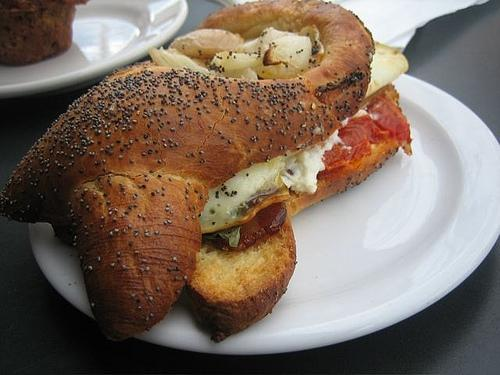onion: (256, 36, 311, 78), (149, 45, 209, 72), (208, 50, 264, 72)
